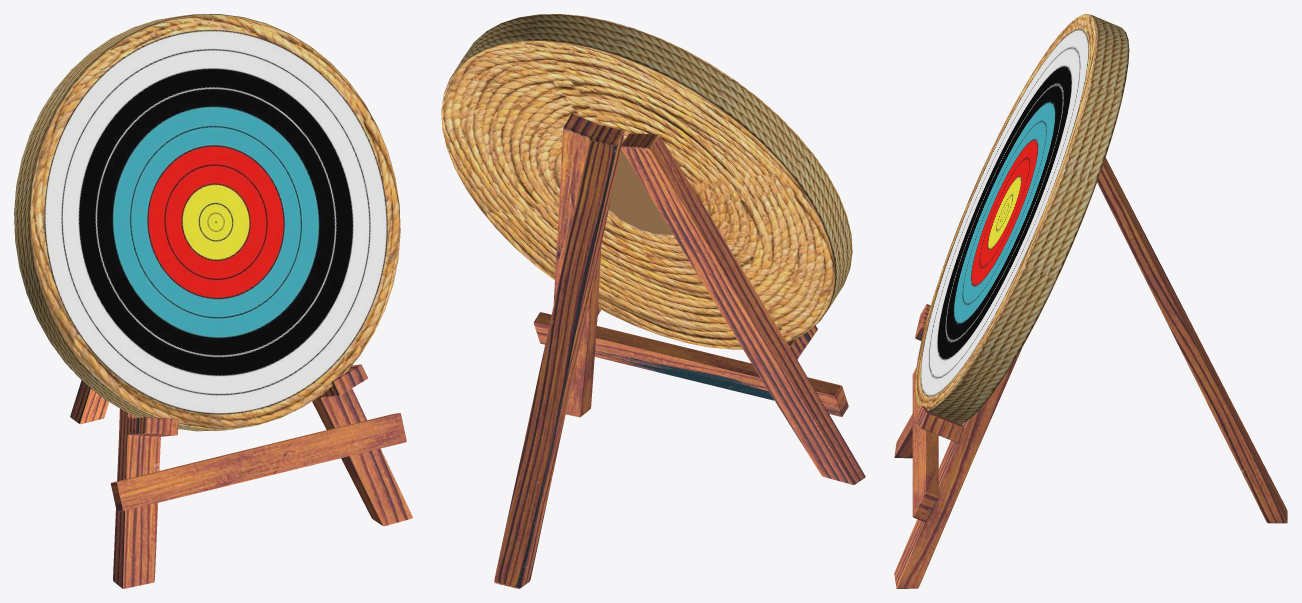
Rendered from entertainment5.glb.
3 renders of one model, left to right at view 1: azimuth 30°, elevation 25°; view 2: azimuth 150°, elevation 25°; view 3: azimuth 270°, elevation 25°, orthographic. The views are drawn at different scales.
Parts seen in each view (by area): view 1: 10480_Archery_target_v1_max2011_iteration-2; view 2: 10480_Archery_target_v1_max2011_iteration-2; view 3: 10480_Archery_target_v1_max2011_iteration-2.
Part boxes in pixels (x1,y1,x2,y2): 10480_Archery_target_v1_max2011_iteration-2: [14, 14, 412, 588]; 10480_Archery_target_v1_max2011_iteration-2: [441, 14, 865, 588]; 10480_Archery_target_v1_max2011_iteration-2: [894, 14, 1287, 588].
Size of the model in its own units: 76.65 by 94.23 by 69.91.
1 material, 1 textured.
